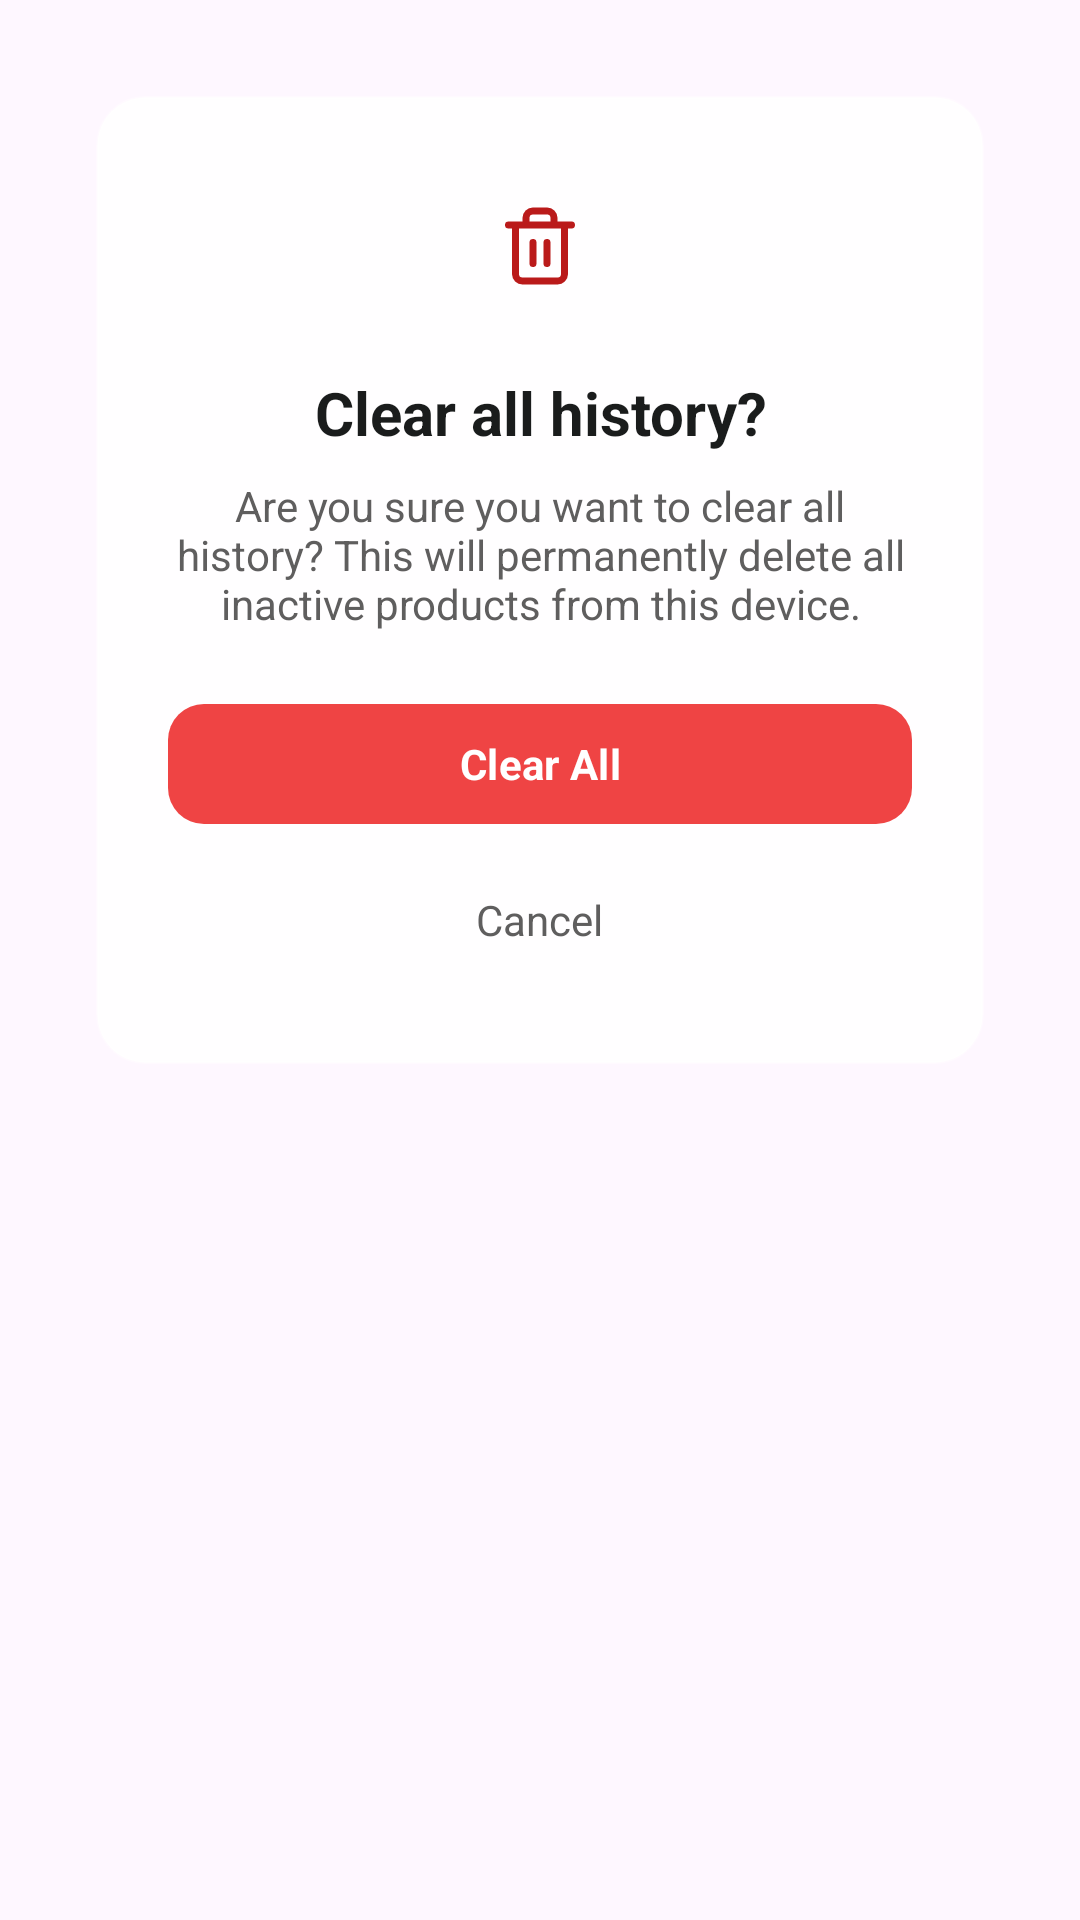

Icons on this 1080w x 1920h Android screen, each with its box as bbox=(x1, y1, x2, y2):
delete: bbox=(505, 207, 575, 285)
